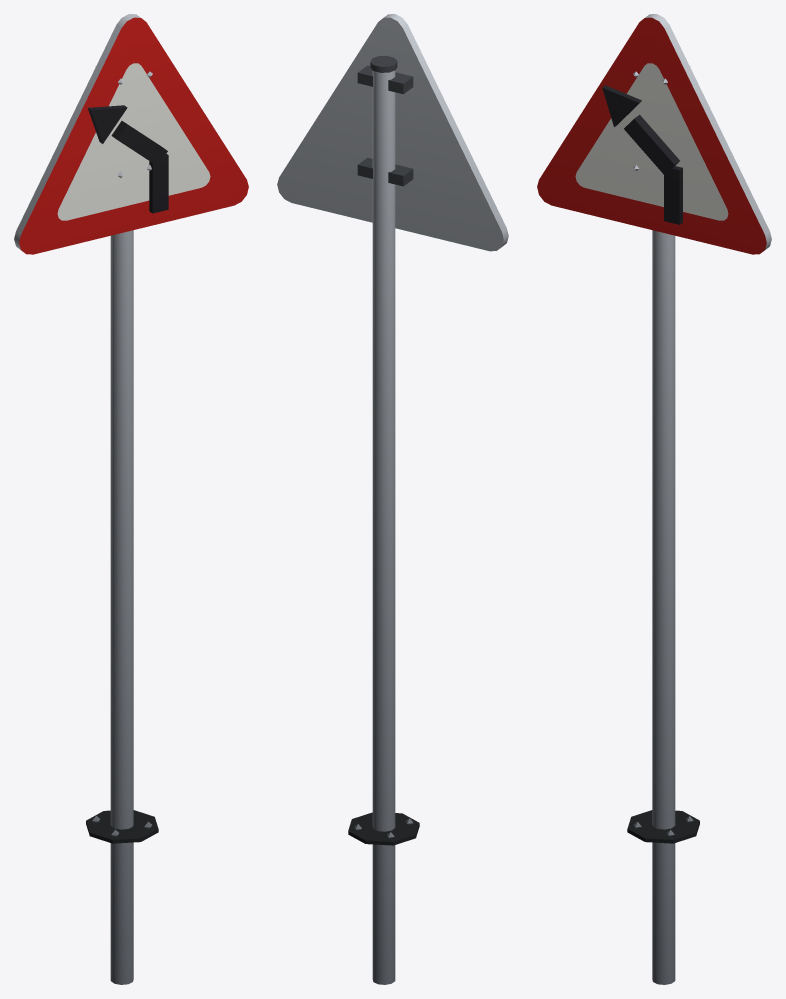
File: Sign_Curve_L.fbx
3 renders of one model, left to right at view 1: azimuth 30°, elevation 25°; view 2: azimuth 150°, elevation 25°; view 3: azimuth 330°, elevation 25°, orthographic.
Parts seen in each view (by area): view 1: Sign_Curve_L_LOD0; view 2: Sign_Curve_L_LOD0; view 3: Sign_Curve_L_LOD0.
Part boxes in pixels (box(x1,y1,x2,y2)): Sign_Curve_L_LOD0: box(14, 14, 248, 984); Sign_Curve_L_LOD0: box(277, 14, 508, 984); Sign_Curve_L_LOD0: box(537, 14, 771, 984).
Size of what is drawn, in the model's own units: 0.7928 by 3.2 by 0.224.
Materials: 1 (1 with a texture image).
